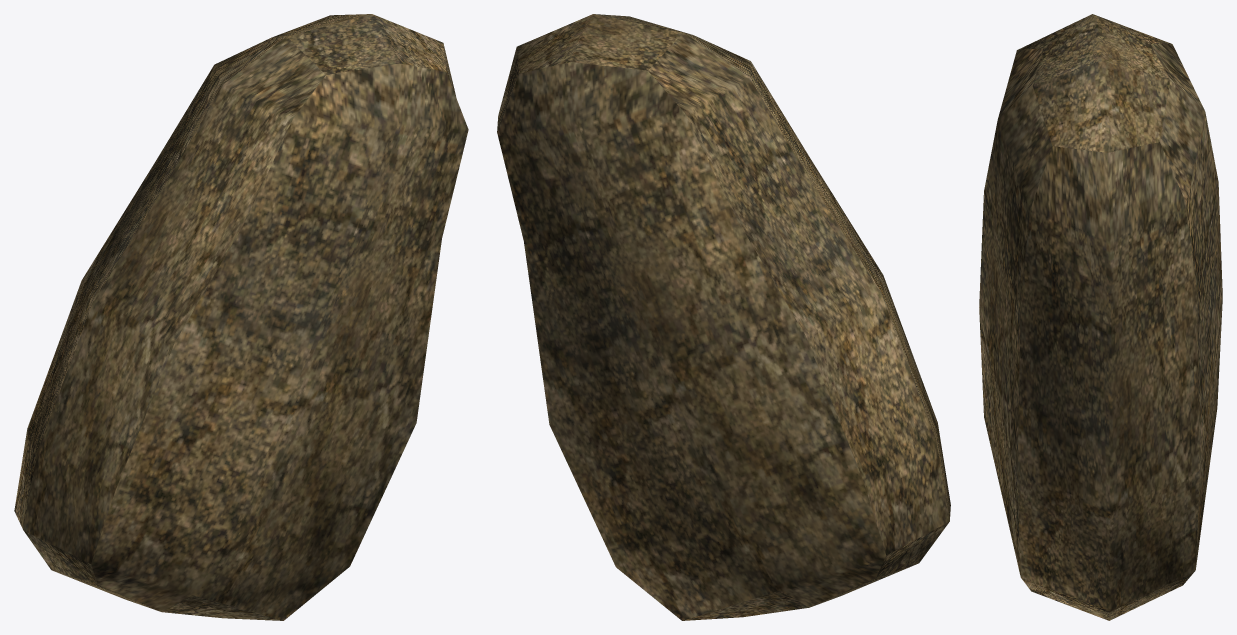
Rendered from CH09_SMAUG_PLAYSURFACE_LONELYMOUNTAIN_LM_PLAYSURFACE03.fbx.
The picture shows the model from 3 angles, left to right: view 1: azimuth 30°, elevation 25°; view 2: azimuth 150°, elevation 25°; view 3: azimuth 270°, elevation 25°; orthographic projection. The views are drawn at different scales.
Parts seen in each view (by area): view 1: CH09_SMAUG_PLAYSURFACE_LONELYMOUNTAIN_LM_PLAYSURFACE03; view 2: CH09_SMAUG_PLAYSURFACE_LONELYMOUNTAIN_LM_PLAYSURFACE03; view 3: CH09_SMAUG_PLAYSURFACE_LONELYMOUNTAIN_LM_PLAYSURFACE03.
Part boxes in pixels (x1,y1,x2,y2): CH09_SMAUG_PLAYSURFACE_LONELYMOUNTAIN_LM_PLAYSURFACE03: (14, 14, 468, 620); CH09_SMAUG_PLAYSURFACE_LONELYMOUNTAIN_LM_PLAYSURFACE03: (497, 14, 950, 620); CH09_SMAUG_PLAYSURFACE_LONELYMOUNTAIN_LM_PLAYSURFACE03: (979, 14, 1222, 620).
Bounding box in the file's own units: 15660 × 19114 × 6932.
Materials: 1 (1 with a texture image).
